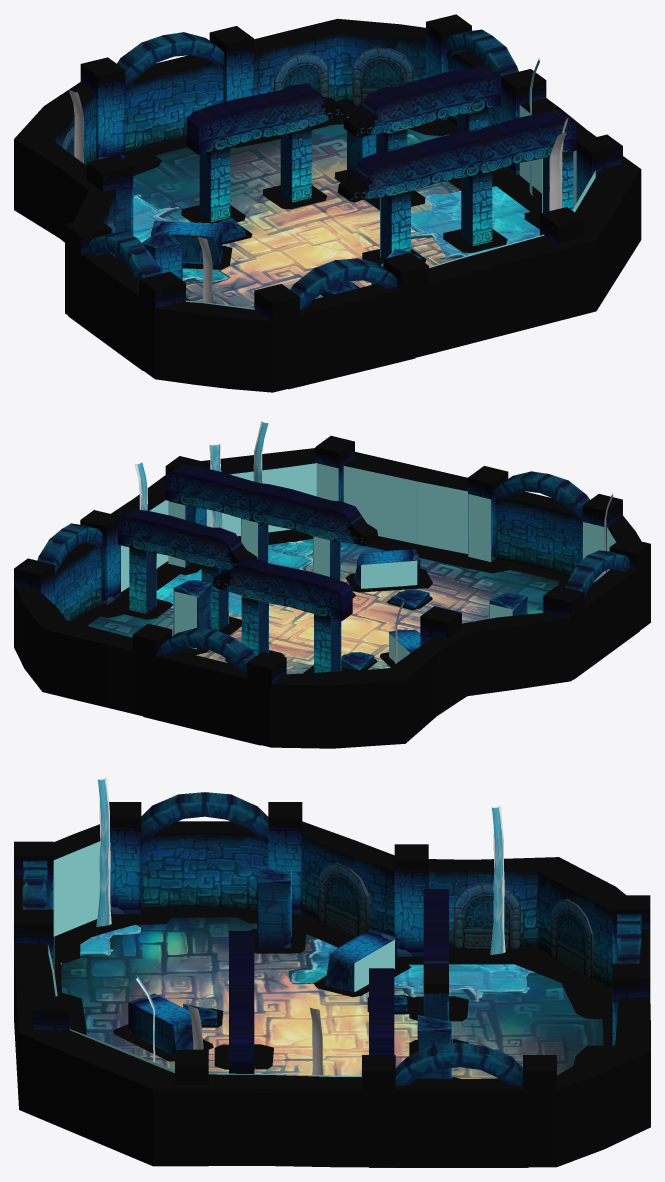
The model's file is Dungeon_051_BossRoom.fbx.
3 renders of one model, top to bottom at view 1: azimuth 30°, elevation 25°; view 2: azimuth 150°, elevation 25°; view 3: azimuth 270°, elevation 25°, orthographic. The views are drawn at different scales.
Parts seen in each view (by area): view 1: Dun_051_Room_003_Wall, Dun_051_Room_003_Pillar_01, Dun_051_Room_003_Ground, Dun_051_Door_002 (×4), Dun_051_Obj03_Gate (×2), Dun_051_Room_003_Object_01, Dun_051_Door_002_Arch (×4), Dun_051_Room_003_GroundWater_01, Dun_051_Room_003_Wallobject_01, Dun_051_shadow, Dun_051_Water01_Tak_A2, Dun_051_Obj03_Gate_Shadow (×2) (+2 smaller); view 2: Dun_051_Room_003_Wall, Dun_051_Room_003_Pillar_01, Dun_051_Door_002 (×4), Dun_051_Room_003_GroundWater_01_Terikaeshi, Dun_051_Obj03_Gate (×2), Dun_051_Room_003_Ground, Dun_051_Room_003_Object_01, Dun_051_Door_002_Arch (×4), Dun_051_shadow, Dun_051_Room_003_GroundWater_01, Dun_051_Water01_Tak_A1, Dun_051_Obj03_Gate_Shadow (+1 smaller); view 3: Dun_051_Room_003_Wall, Dun_051_Room_003_Ground, Dun_051_Room_003_Pillar_01, Dun_051_Door_002 (×2), Dun_051_shadow, Dun_051_Door_002_Arch (×4), Dun_051_Room_003_Wallobject_01, Dun_051_Obj03_Gate (×2), Dun_051_Room_003_GroundWater_01_Terikaeshi, Dun_051_Room_003_GroundWater_01, Dun_051_Room_003_Object_01, Dun_051_Water01_Tak_A1 (+3 smaller).
Part boxes in pixels (bbox=[...]): Dun_051_Room_003_Wall: bbox=[14, 18, 641, 392]; Dun_051_Room_003_Pillar_01: bbox=[65, 14, 622, 392]; Dun_051_Room_003_Ground: bbox=[68, 124, 460, 389]; Dun_051_Door_002 (×4): bbox=[80, 50, 500, 386]; Dun_051_Obj03_Gate (×2): bbox=[186, 65, 501, 222]; Dun_051_Room_003_Object_01: bbox=[337, 110, 576, 259]; Dun_051_Door_002_Arch (×4): bbox=[89, 29, 518, 309]; Dun_051_Room_003_GroundWater_01: bbox=[133, 186, 539, 284]; Dun_051_Room_003_Wallobject_01: bbox=[62, 47, 413, 257]; Dun_051_shadow: bbox=[117, 104, 541, 300]; Dun_051_Water01_Tak_A2: bbox=[69, 58, 568, 303]; Dun_051_Obj03_Gate_Shadow (×2): bbox=[181, 170, 506, 223]; Dun_051_Room_003_Wall: bbox=[14, 448, 641, 748]; Dun_051_Room_003_Pillar_01: bbox=[14, 435, 650, 747]; Dun_051_Door_002 (×4): bbox=[55, 491, 636, 742]; Dun_051_Room_003_GroundWater_01_Terikaeshi: bbox=[121, 463, 616, 662]; Dun_051_Obj03_Gate (×2): bbox=[118, 509, 352, 672]; Dun_051_Room_003_Ground: bbox=[88, 542, 639, 745]; Dun_051_Room_003_Object_01: bbox=[166, 464, 378, 580]; Dun_051_Door_002_Arch (×4): bbox=[37, 471, 629, 674]; Dun_051_shadow: bbox=[100, 529, 566, 670]; Dun_051_Room_003_GroundWater_01: bbox=[156, 539, 390, 668]; Dun_051_Water01_Tak_A1: bbox=[135, 421, 612, 663]; Dun_051_Obj03_Gate_Shadow: bbox=[113, 597, 241, 635]; Dun_051_Room_003_Wall: bbox=[14, 821, 650, 1167]; Dun_051_Room_003_Ground: bbox=[60, 917, 603, 1167]; Dun_051_Room_003_Pillar_01: bbox=[14, 802, 650, 1167]; Dun_051_Door_002 (×2): bbox=[141, 821, 522, 1167]; Dun_051_shadow: bbox=[53, 910, 612, 1166]; Dun_051_Door_002_Arch (×4): bbox=[22, 792, 641, 1086]; Dun_051_Room_003_Wallobject_01: bbox=[318, 862, 616, 1043]; Dun_051_Obj03_Gate (×2): bbox=[369, 889, 448, 1054]; Dun_051_Room_003_GroundWater_01_Terikaeshi: bbox=[48, 841, 452, 1078]; Dun_051_Room_003_GroundWater_01: bbox=[60, 925, 534, 1074]; Dun_051_Room_003_Object_01: bbox=[229, 931, 254, 1073]; Dun_051_Water01_Tak_A1: bbox=[96, 777, 505, 1073].
Size of what is drawn, in the model's own units: 15 by 5.32 by 15.02.
